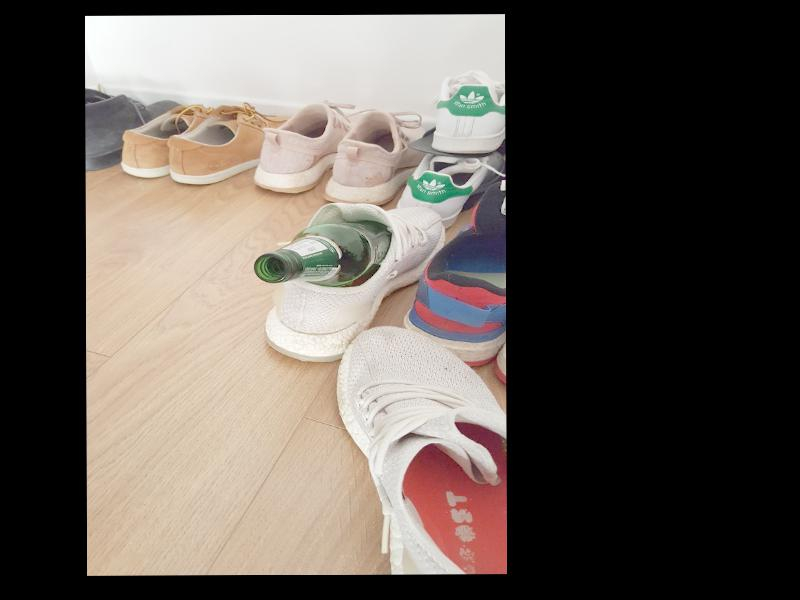Beer: (253, 220, 390, 284)
